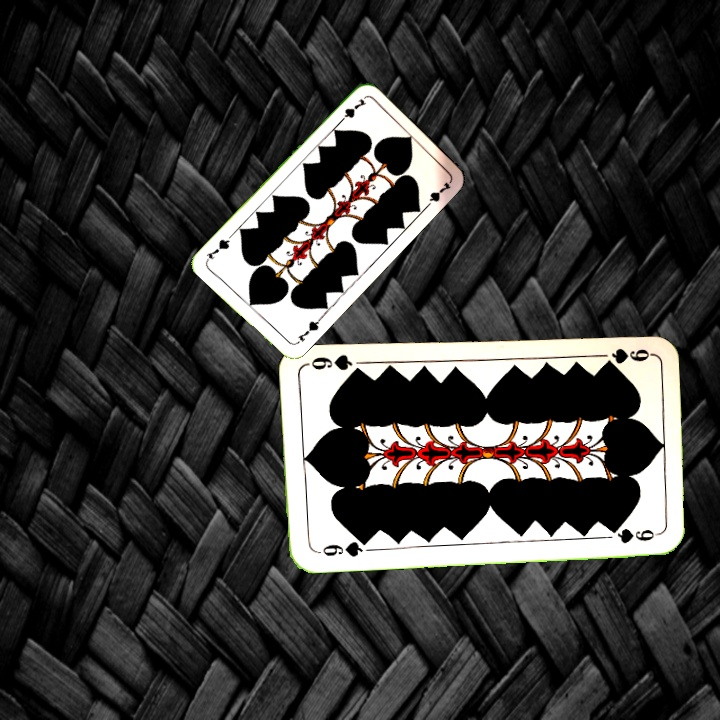G7: (334, 94, 368, 127), (291, 314, 324, 347)
G9: (312, 536, 371, 559), (602, 344, 652, 364)
